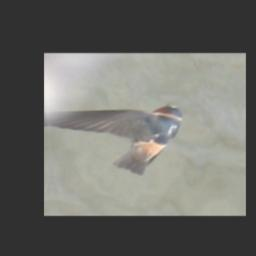Swallow: (47, 103, 191, 177)
